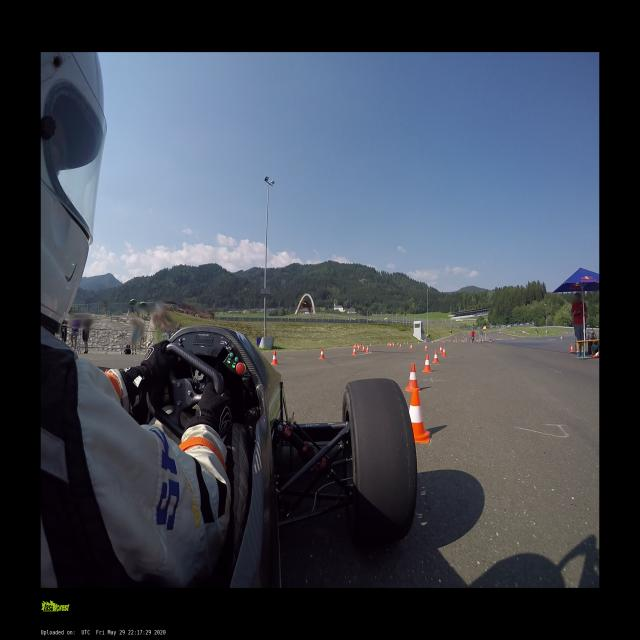orange_cone: (409, 390, 429, 442), (406, 364, 419, 392), (422, 354, 431, 372), (271, 351, 278, 365), (432, 350, 439, 363), (319, 348, 325, 359), (442, 347, 446, 356), (569, 344, 573, 353), (352, 347, 356, 355), (439, 345, 442, 353), (424, 344, 427, 351), (366, 346, 368, 352), (410, 343, 412, 349), (362, 345, 364, 350), (353, 344, 355, 348), (399, 344, 401, 347), (392, 343, 394, 346), (358, 344, 359, 350), (355, 343, 356, 348), (388, 342, 389, 346), (390, 342, 391, 346), (363, 346, 364, 350), (398, 342, 398, 345), (388, 342, 388, 346)
